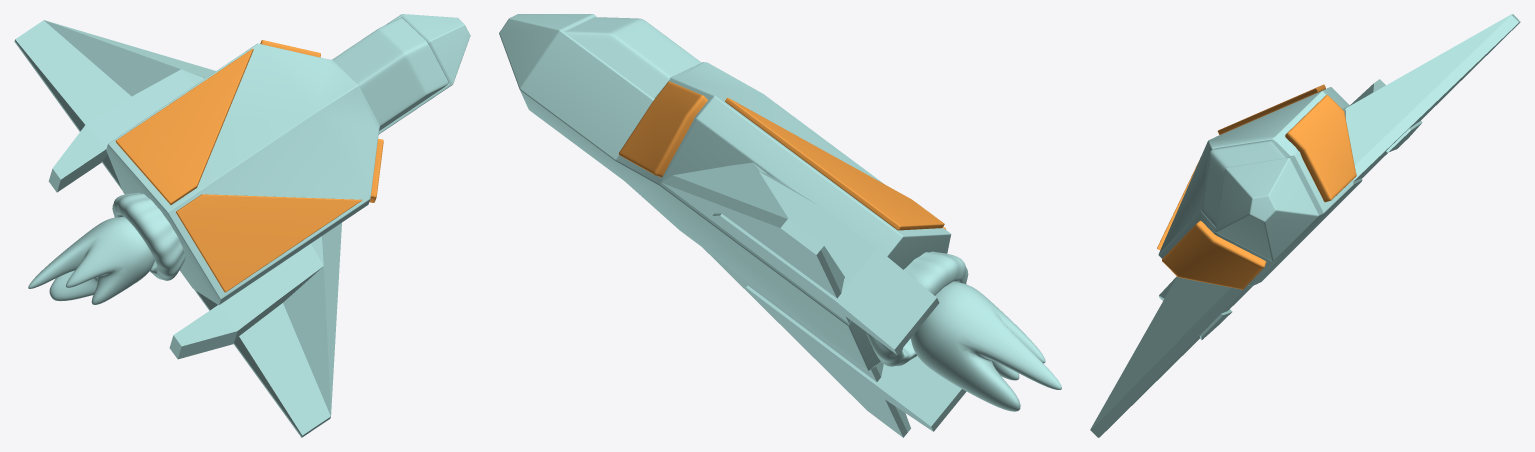
The model's file is ship.fbx.
3 views of the same model, side by side, from view 1: azimuth 30°, elevation 25°; view 2: azimuth 150°, elevation 25°; view 3: azimuth 270°, elevation 25° (orthographic). The views are drawn at different scales.
Visible parts, largest first — view 1: Cylinder.002; view 2: Cylinder.002; view 3: Cylinder.002.
Part boxes in pixels (<box>): Cylinder.002: <box>14,14,470,437</box>; Cylinder.002: <box>499,14,1061,437</box>; Cylinder.002: <box>1090,14,1520,437</box>.
Bounding box in the file's own units: 46.69 × 33.36 × 33.9.
